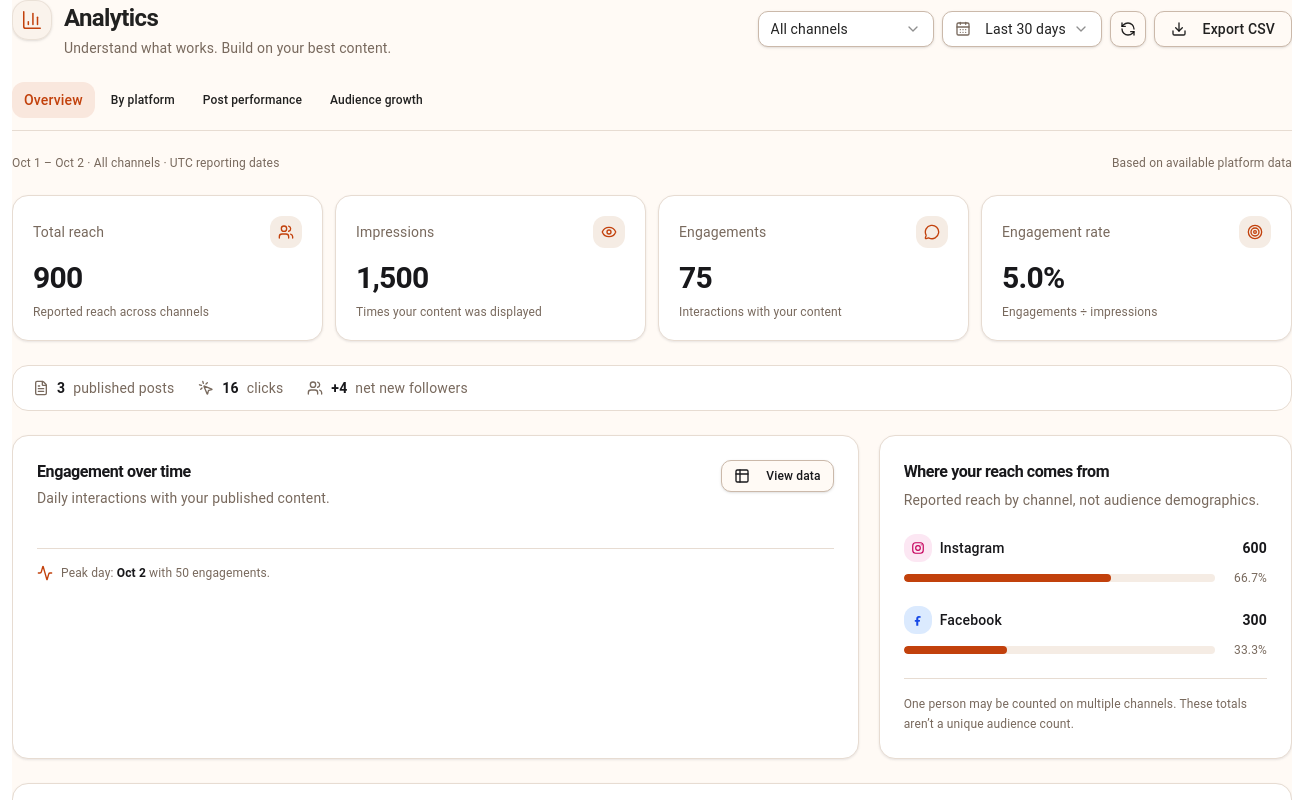
Test case: AnalyticsOverview › filters the dashboard by channel without extra requests
expect the heading "Total reach" is shown: met, box [33,222,104,242]
Click the dropdown named "Filter by channel".
click(846, 29)  # box [758,11,934,47]
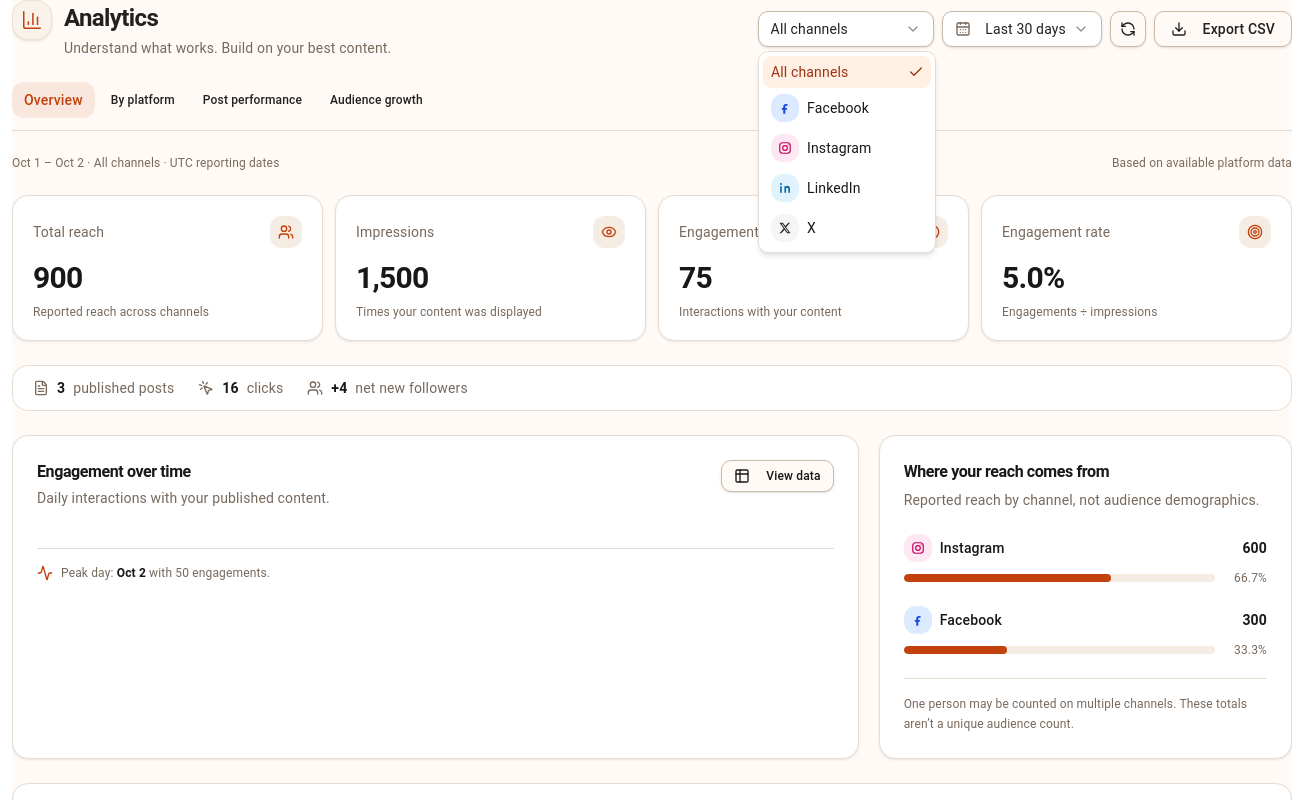
Click the option "Instagram".
click(821, 148)  # box [771,134,872,162]
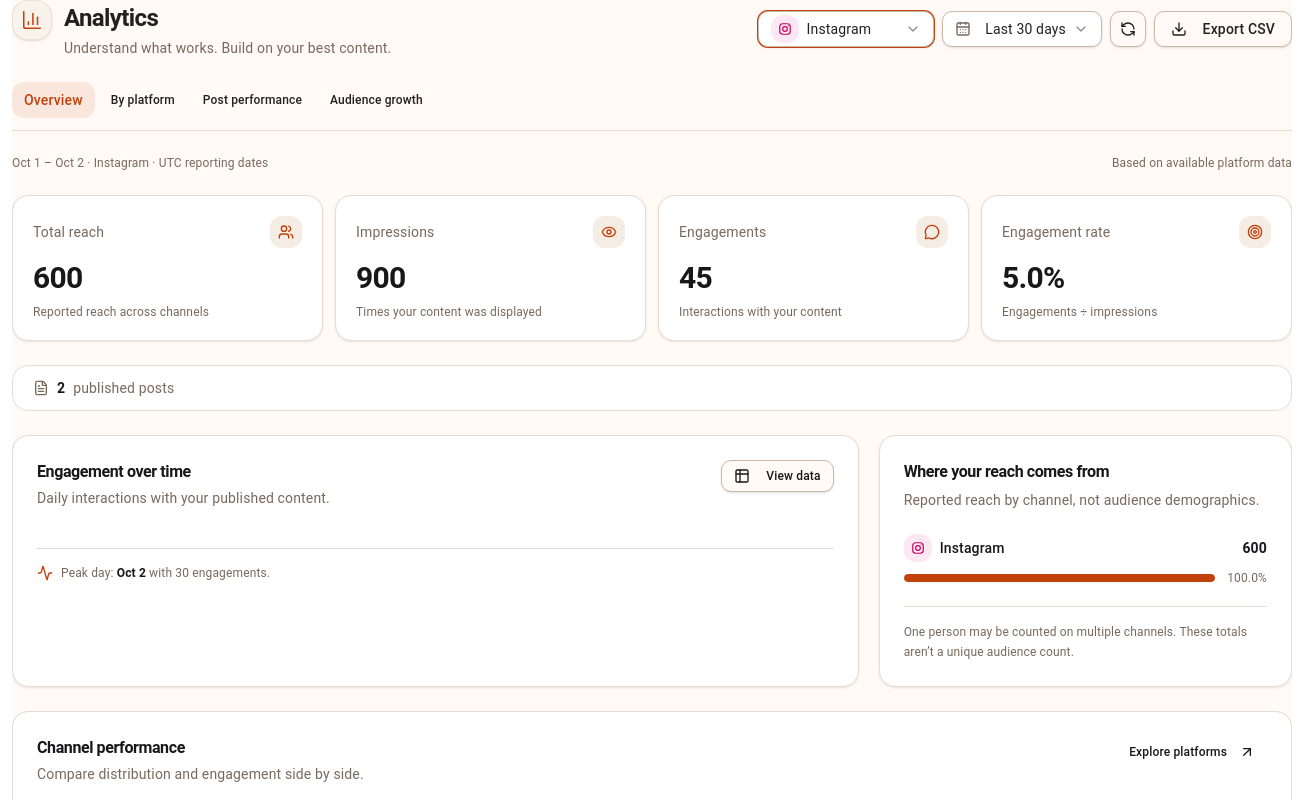
expect the text "net new followers" is gone: met
